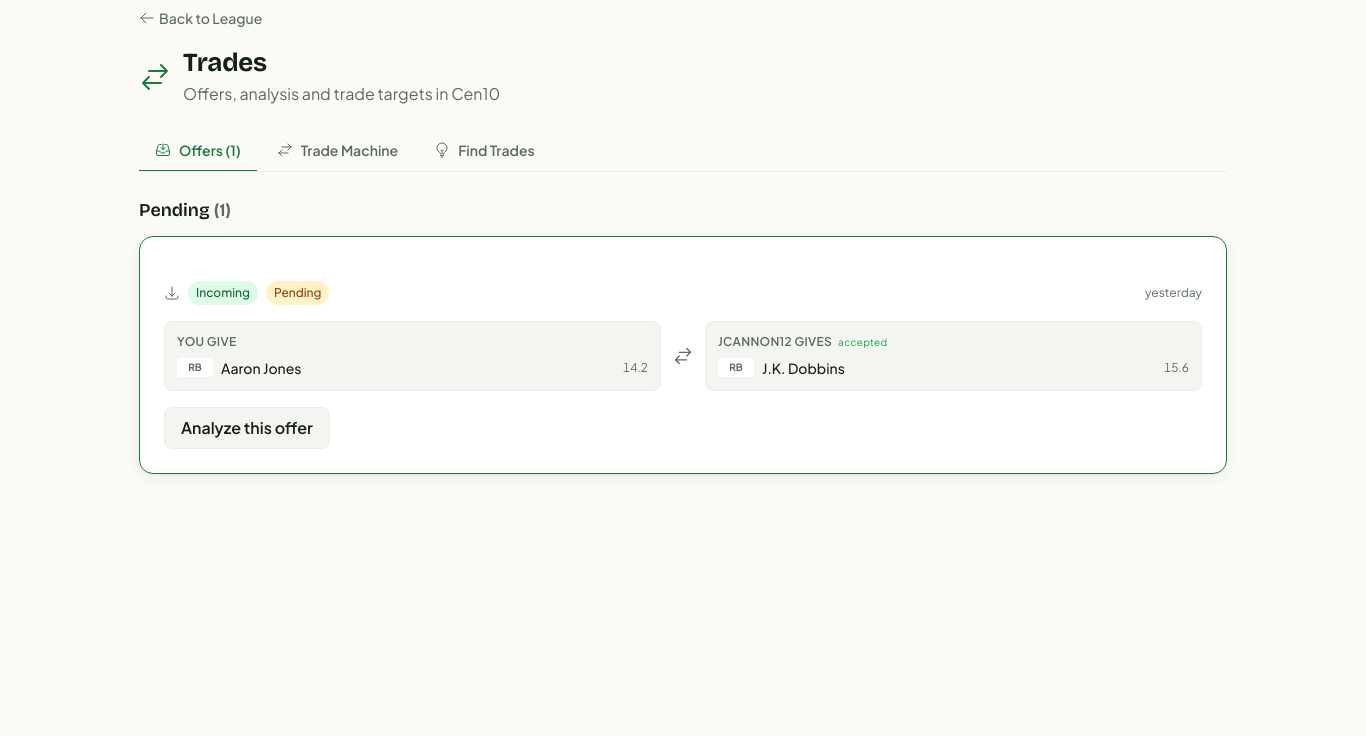
Counter-offers › says plainly when nothing beats accepting
Click the button "Analyze this offer": (247, 428) [164,407,330,449]
(page scrolled)
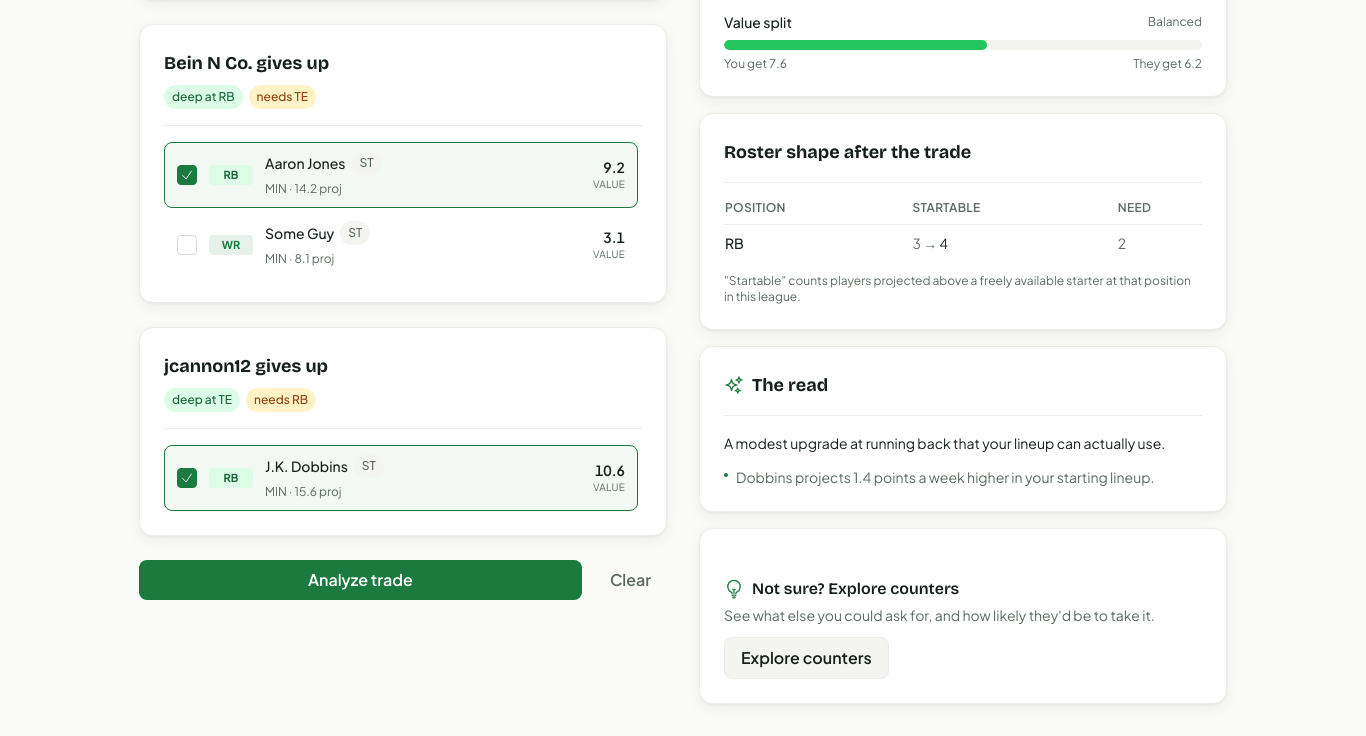
Click the button "Explore counters": (806, 658) [724,637,889,679]
(page scrolled)
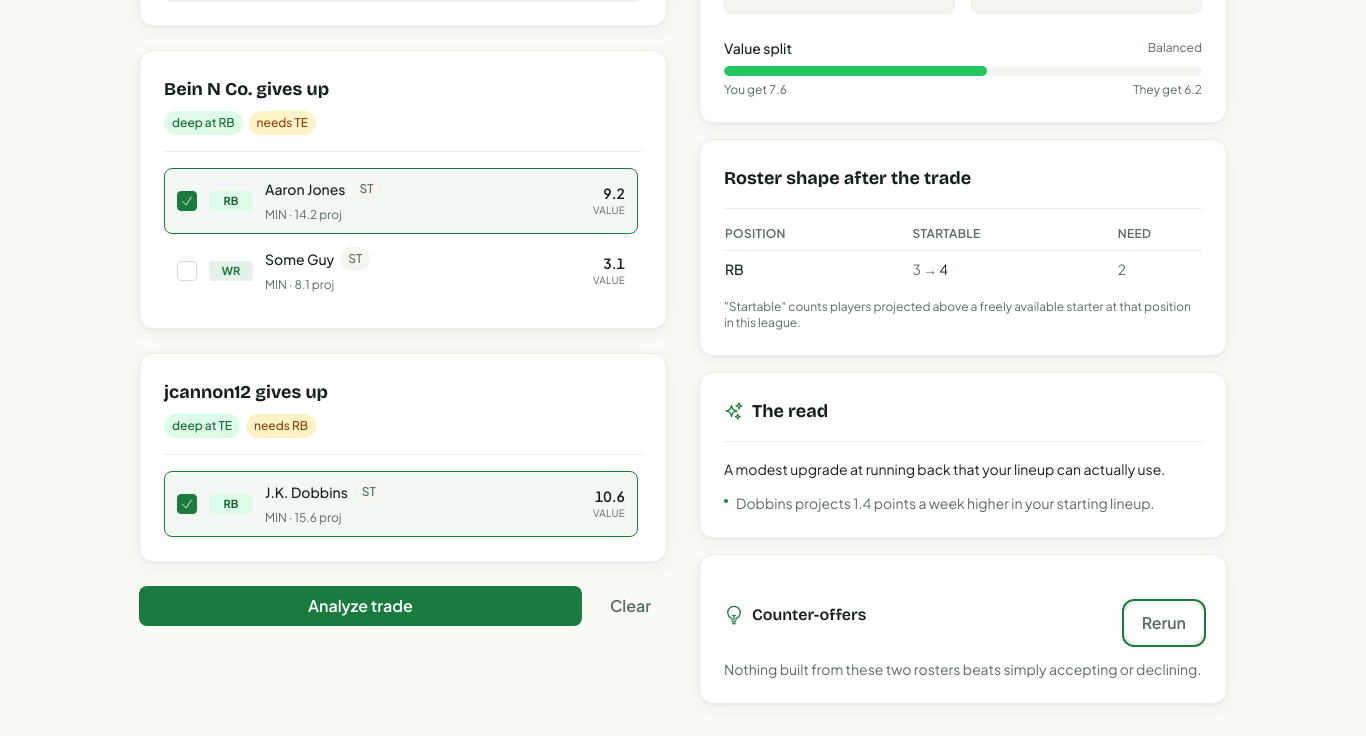
Result: the text "Nothing built from these two rosters" is shown at [724,660,1201,678]
